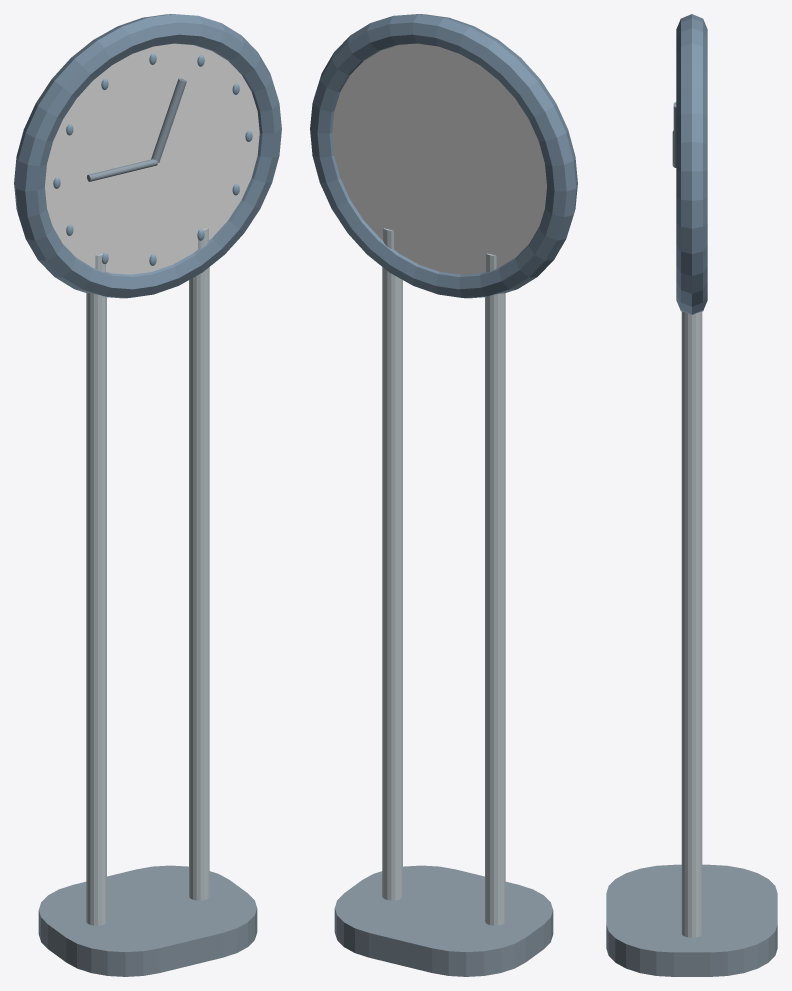
File: floor_clock.glb
The picture shows the model from 3 angles, left to right: view 1: azimuth 30°, elevation 25°; view 2: azimuth 150°, elevation 25°; view 3: azimuth 270°, elevation 25°; orthographic projection.
Visible parts, largest first — view 1: decor_d8dcd8_matte, decor_9aadb8_metal, decor_354d66_matte, decor_455665_metal, decor_476a8a_matte; view 2: decor_d8dcd8_matte, decor_9aadb8_metal, decor_354d66_matte, decor_455665_metal; view 3: decor_455665_metal, decor_9aadb8_metal, decor_354d66_matte.
Boxes of the visible parts, x1,y1,x2,y2 form: decor_d8dcd8_matte: (45,43,259,274); decor_9aadb8_metal: (86,228,209,925); decor_354d66_matte: (14,14,281,298); decor_455665_metal: (38,78,257,976); decor_476a8a_matte: (53,53,252,265); decor_d8dcd8_matte: (332,43,546,274); decor_9aadb8_metal: (382,228,505,925); decor_354d66_matte: (310,14,577,298); decor_455665_metal: (334,865,553,976); decor_455665_metal: (606,102,777,976); decor_9aadb8_metal: (681,311,702,937); decor_354d66_matte: (676,14,707,314).
Bounding box in the file's own units: 0.67 × 2.21 × 0.38.
